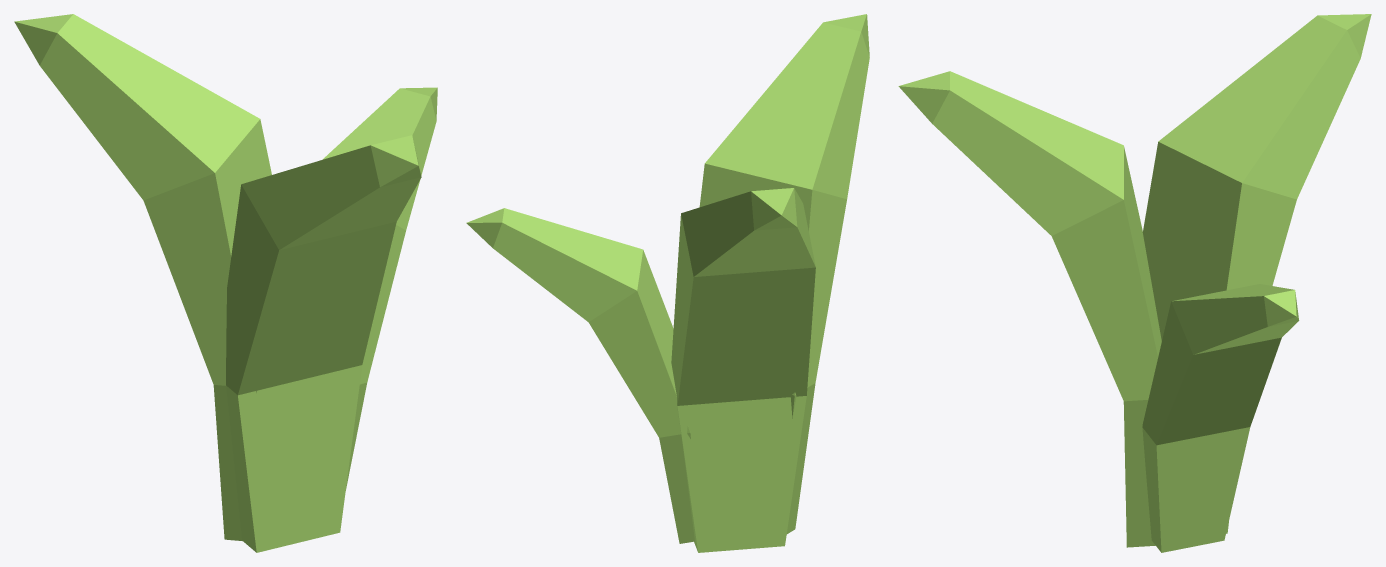
Rendered from grass 1.fbx.
3 renders of one model, left to right at view 1: azimuth 30°, elevation 25°; view 2: azimuth 150°, elevation 25°; view 3: azimuth 270°, elevation 25°, orthographic. The views are drawn at different scales.
Parts seen in each view (by area): view 1: Cube.004; view 2: Cube.004; view 3: Cube.004.
Boxes of the visible parts, bbox=[...] form: Cube.004: bbox=[14, 14, 437, 552]; Cube.004: bbox=[466, 14, 869, 552]; Cube.004: bbox=[898, 14, 1371, 552].
Size of the model in its own units: 59.89 by 70.1 by 67.2.
